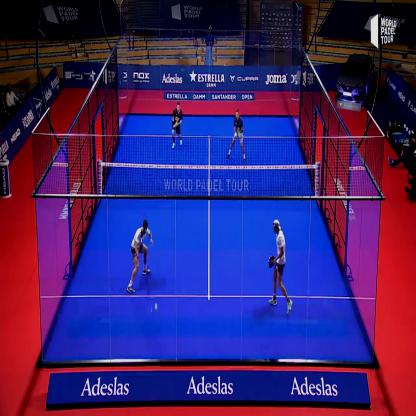ball: (151, 297, 161, 313)
